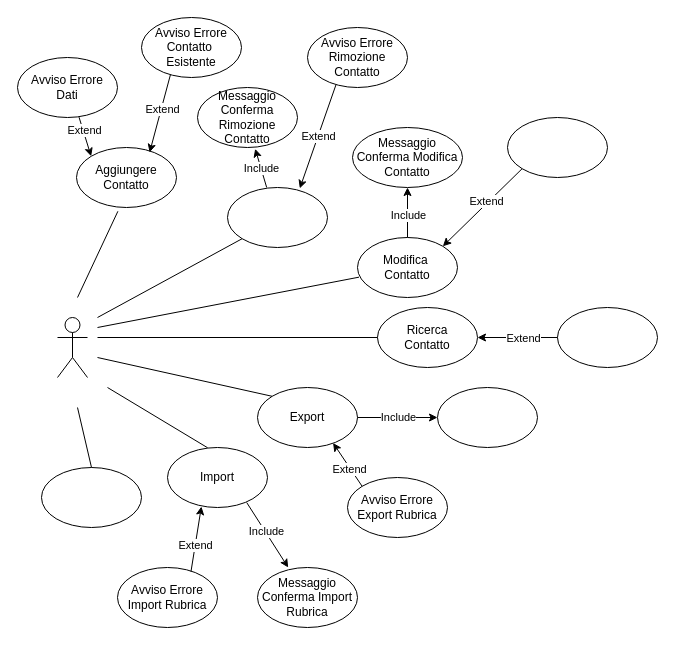
This 675x645 diagram has some shape labels left out. Here are the shapes that lost their labels. From the top down, the centre of each, then its label:
At [557,147]: "Avviso Errore Modifica Contatto".
At [277,217]: "Rimuovere Contatto".
At [72,347]: "Actor".
At [607,337]: "Avviso Errore Contatto Non Trovato".
At [487,417]: "Messaggio Conferma Export Rubrica".
At [91,497]: "Aggiungere Contatto A Lista Preferiti".
